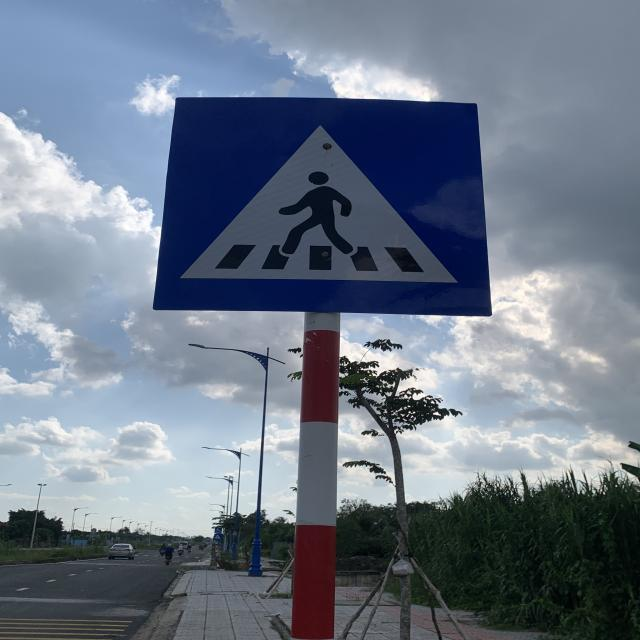Giao_Nhau_Duong_Uu_Tien: (151, 93, 488, 317)
